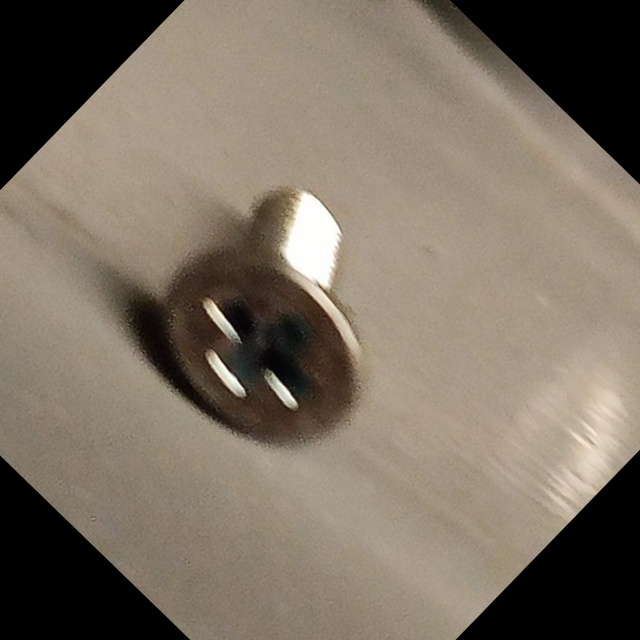phillips: (121, 209, 399, 486)
